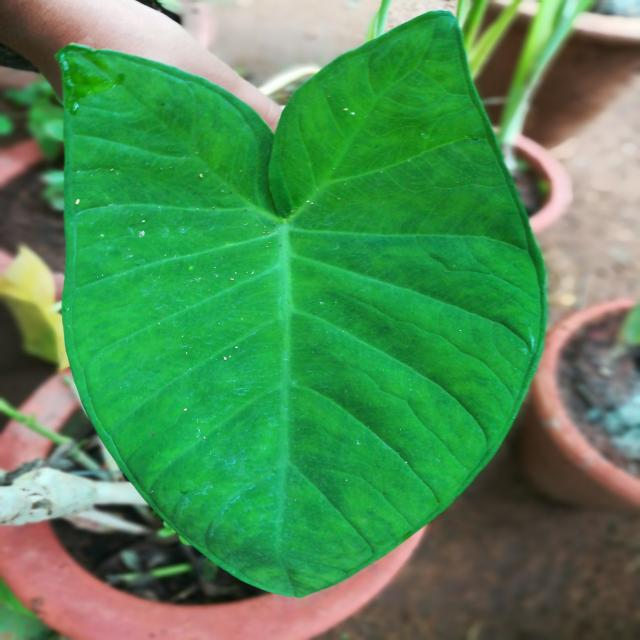taro: (60, 11, 545, 596)
